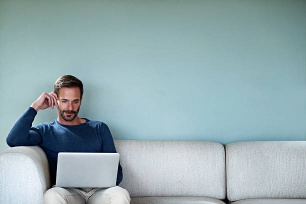male: (51, 78, 86, 125)
